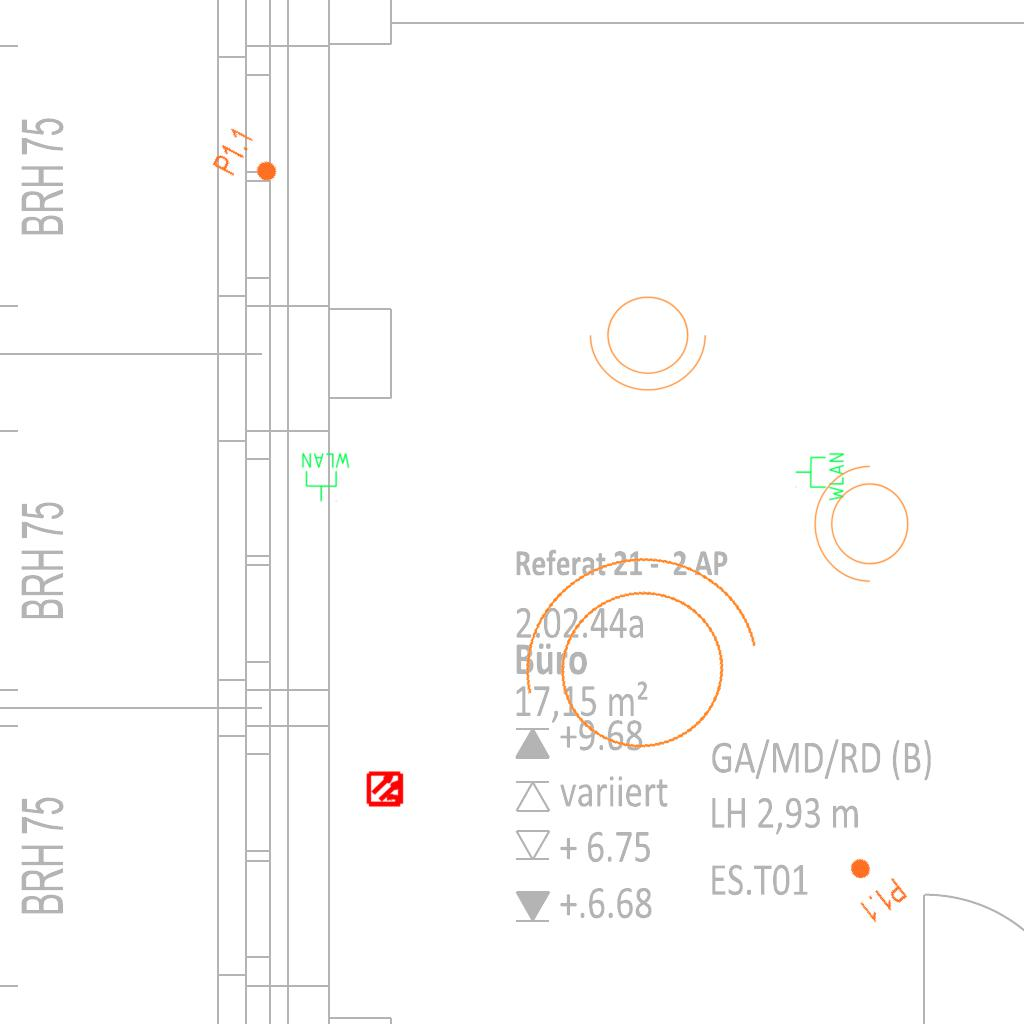Downlight_LED_Einbauleuchten_Flur: (834, 846, 910, 926), (209, 124, 289, 196)
OT_Multisensormelder_(Kombination_RMO_WMD): (358, 761, 414, 817)
Scheinwerfer_fuer_Alarmbeleuchtung: (481, 524, 787, 799), (585, 284, 717, 396), (809, 461, 921, 593)
WLAN: (300, 451, 352, 503), (794, 451, 846, 503)
